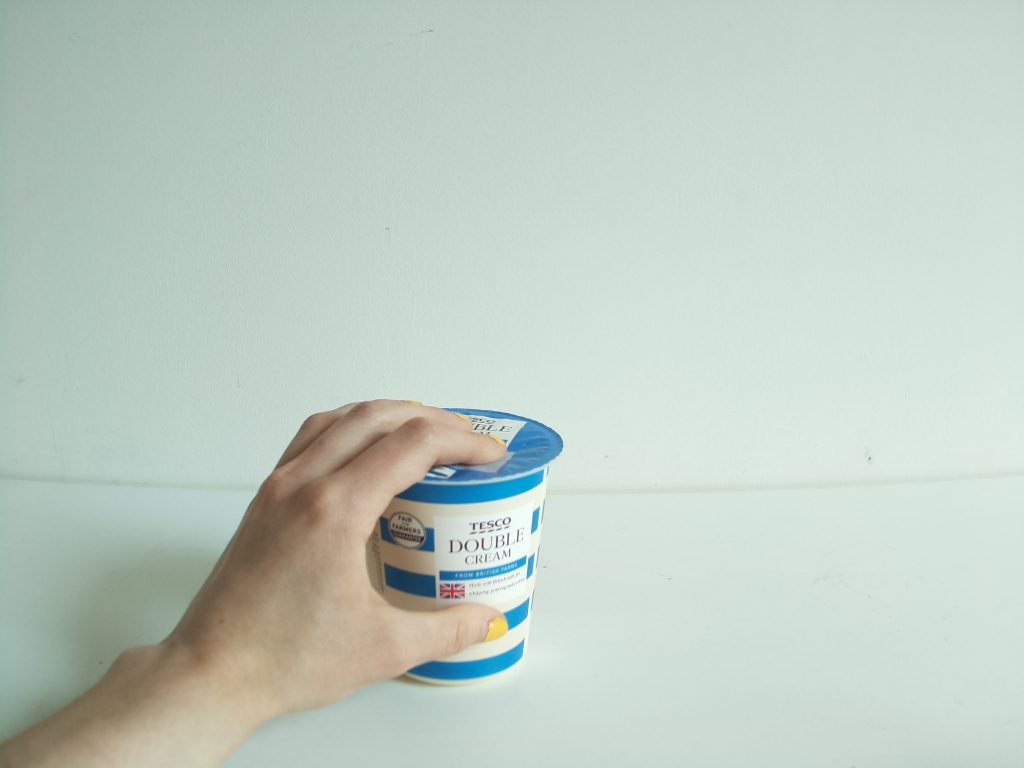cream: (356, 403, 559, 687)
